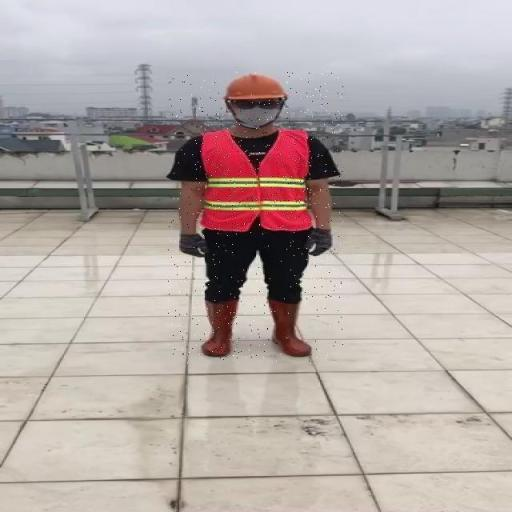Boots: (269, 298, 316, 358), (196, 300, 242, 358)
Helmet: (219, 73, 289, 101)
Person: (168, 72, 343, 363)
